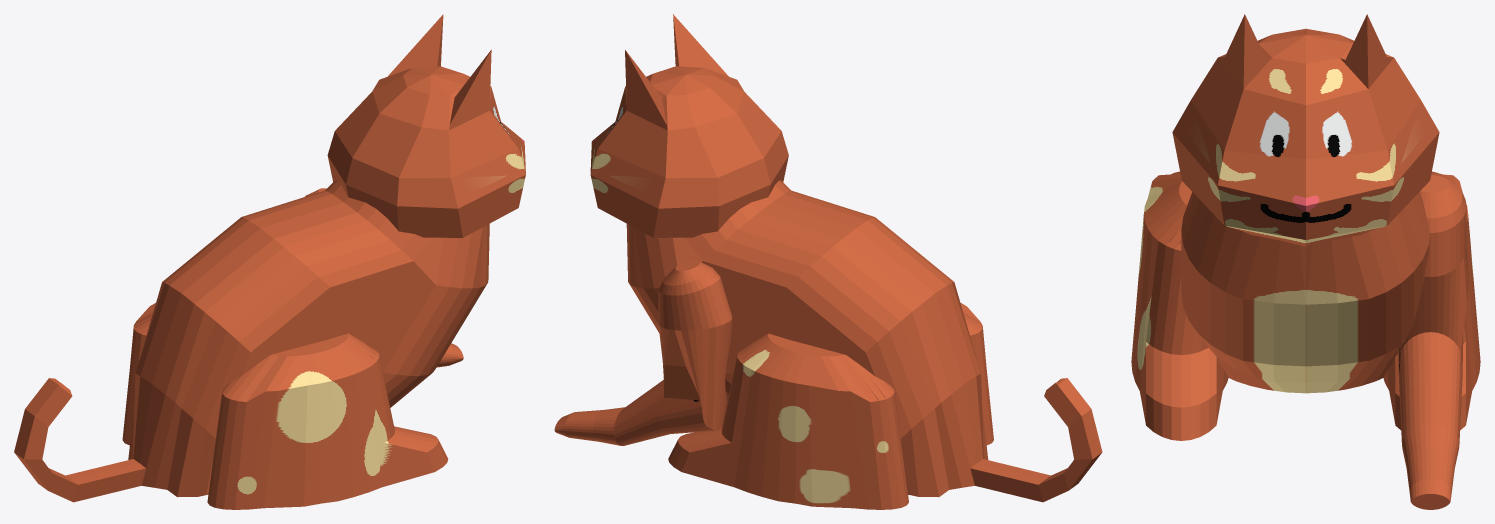
The model's file is catBodyMegaKart(22-03-12).fbx.
The picture shows the model from 3 angles, left to right: view 1: azimuth 30°, elevation 25°; view 2: azimuth 150°, elevation 25°; view 3: azimuth 270°, elevation 25°; orthographic projection. The views are drawn at different scales.
Visible parts, largest first — view 1: body; view 2: body; view 3: body.
Part boxes in pixels (<box>): body: <box>14,14,525,509</box>; body: <box>554,14,1102,509</box>; body: <box>1131,14,1480,509</box>.
Size of the model in its own units: 594 by 421 by 280.
1 material, 1 textured.
